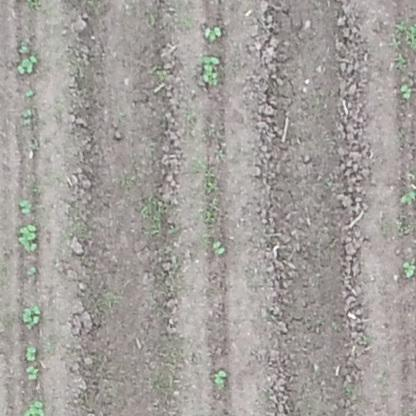vc: (16, 220, 42, 251), (202, 55, 223, 81), (21, 303, 42, 327), (21, 398, 46, 415), (17, 58, 38, 77), (203, 25, 224, 41), (400, 189, 416, 207), (401, 261, 416, 279), (212, 370, 228, 386), (213, 239, 226, 256), (399, 82, 412, 98), (19, 199, 32, 214), (27, 368, 39, 380), (27, 347, 36, 360), (18, 43, 28, 54)
